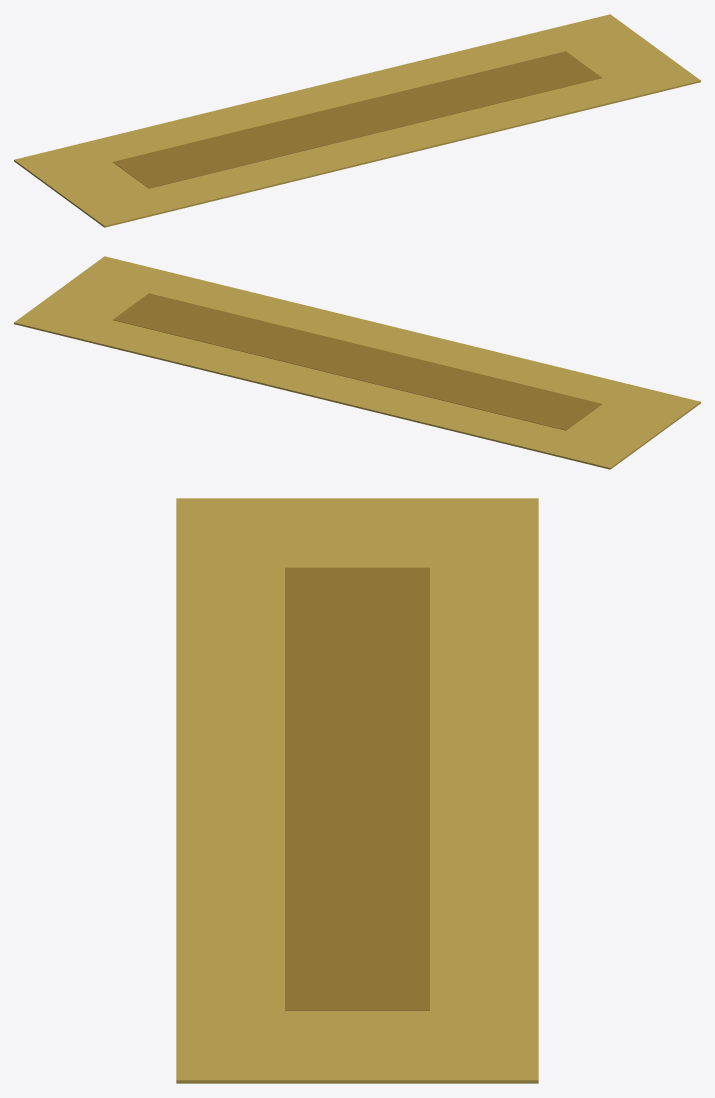
File: antenna_lora.glb
3 renders of one model, top to bottom at view 1: azimuth 30°, elevation 25°; view 2: azimuth 150°, elevation 25°; view 3: azimuth 270°, elevation 25°, orthographic. The views are drawn at different scales.
Parts seen in each view (by area): view 1: c0, c1; view 2: c0, c1; view 3: c0, c1.
Boxes of the visible parts, x1,y1,x2,y2 form: c0: (14, 14, 700, 227); c1: (113, 51, 601, 188); c0: (14, 256, 700, 469); c1: (113, 293, 601, 430); c0: (176, 498, 538, 1083); c1: (285, 567, 429, 1010).
Size of the model in its own units: 38 by 0.14 by 10.
